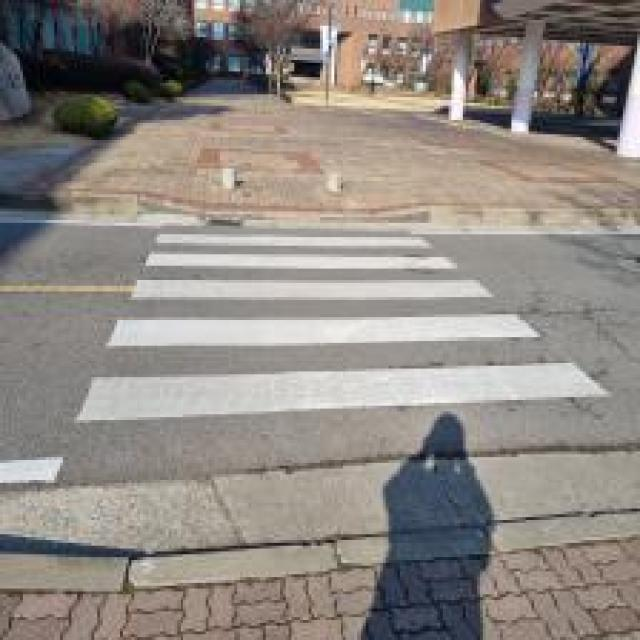zebra: (72, 216, 620, 434)
